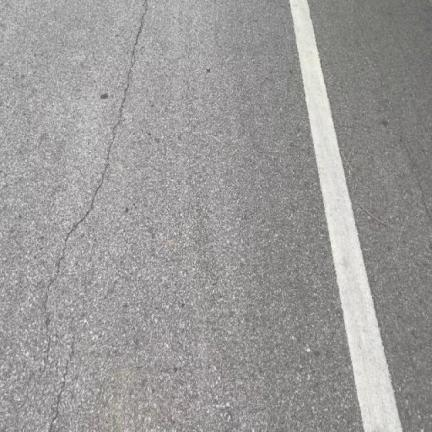Road: (0, 0, 369, 431)
